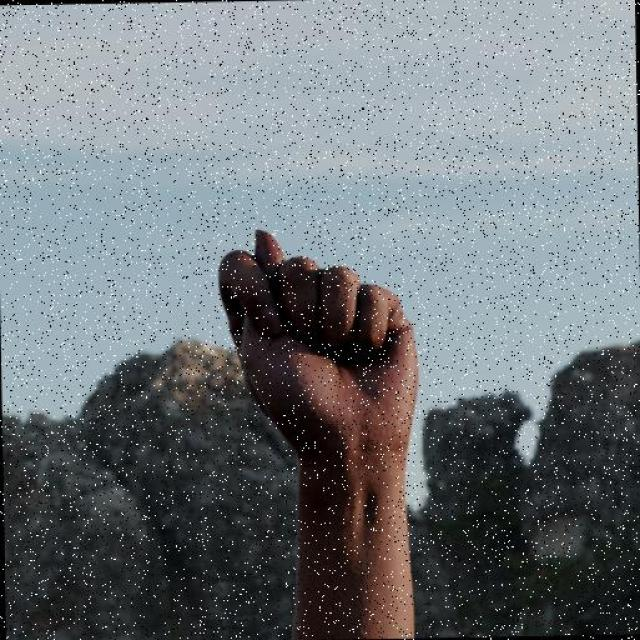T: (207, 220, 426, 464)
